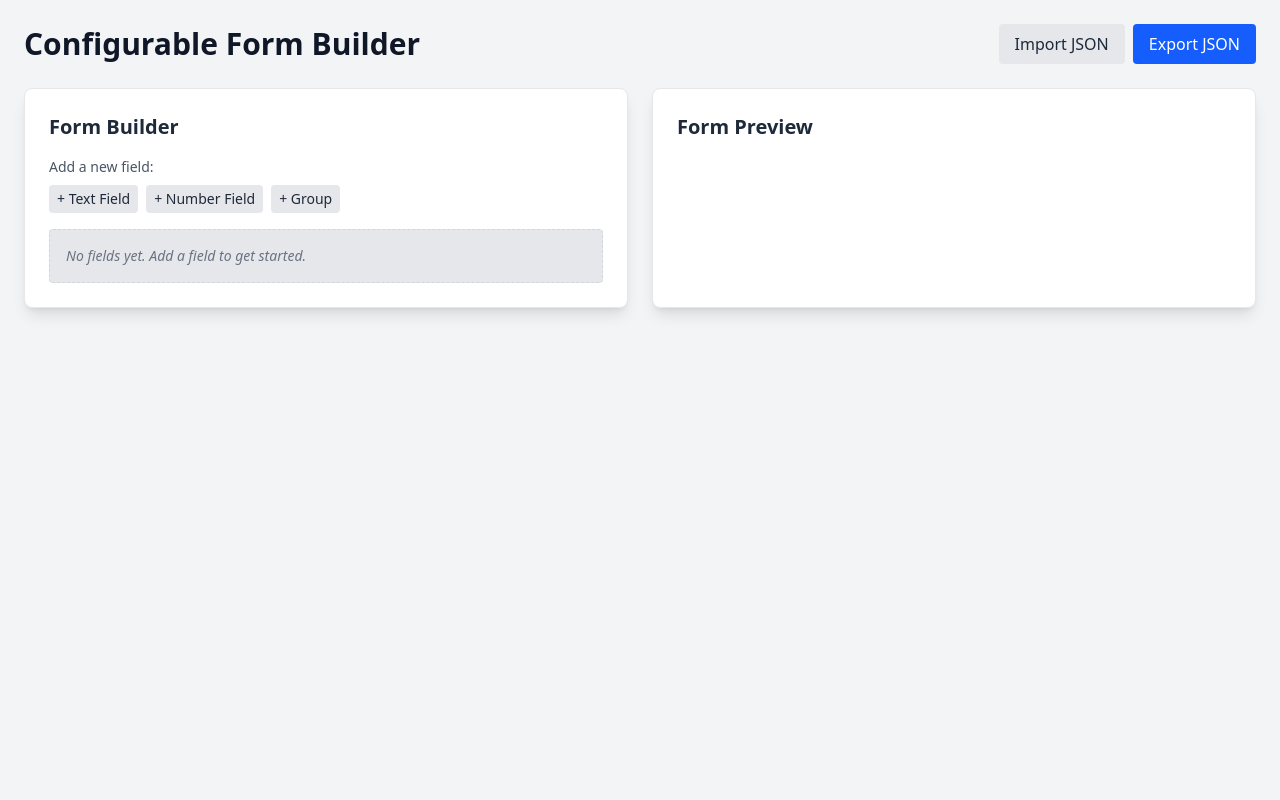
Test: ConfigurableFormBuilder › export functionality › opens export modal when export button is clicked
Click the button "Export JSON": (1194, 44) [1133, 24, 1256, 64]
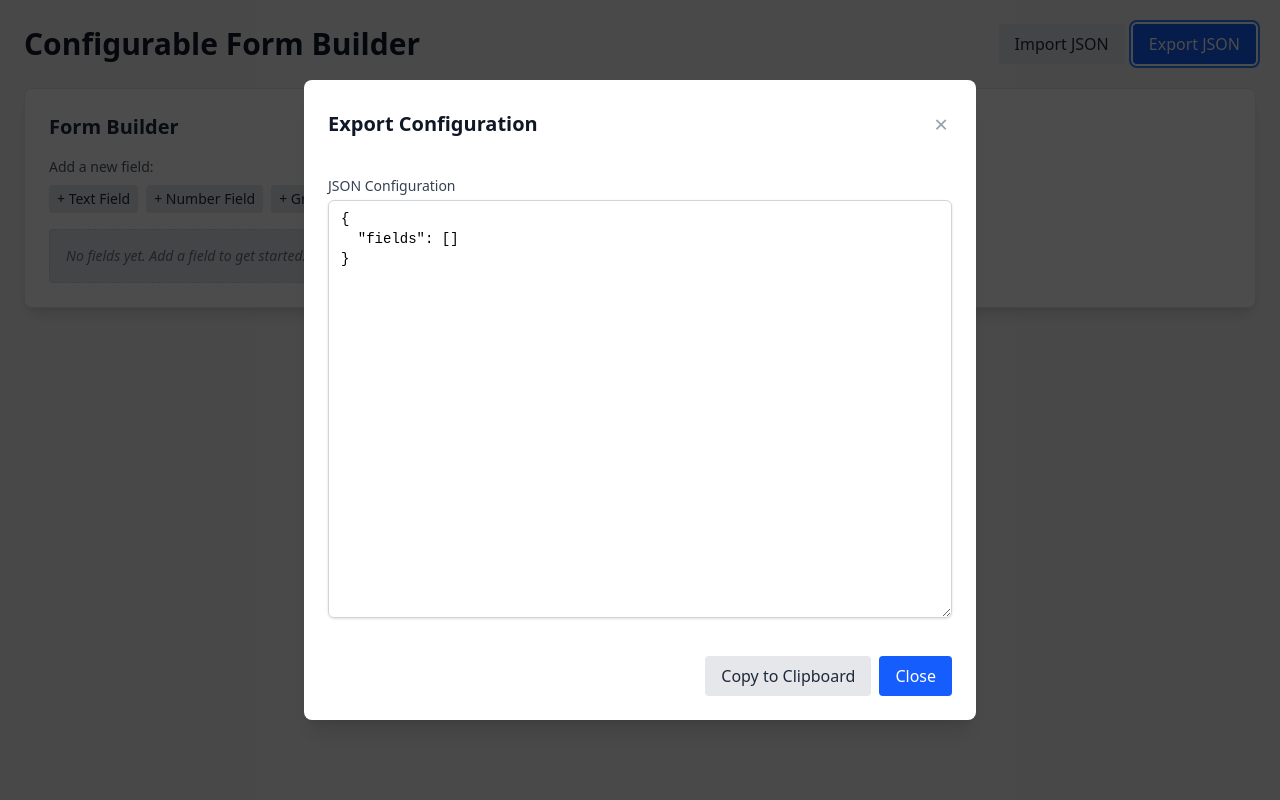
Expected: the dialog is shown, [304, 80, 976, 720]
Expected: the heading "Export Configuration" is shown, [328, 110, 538, 138]
